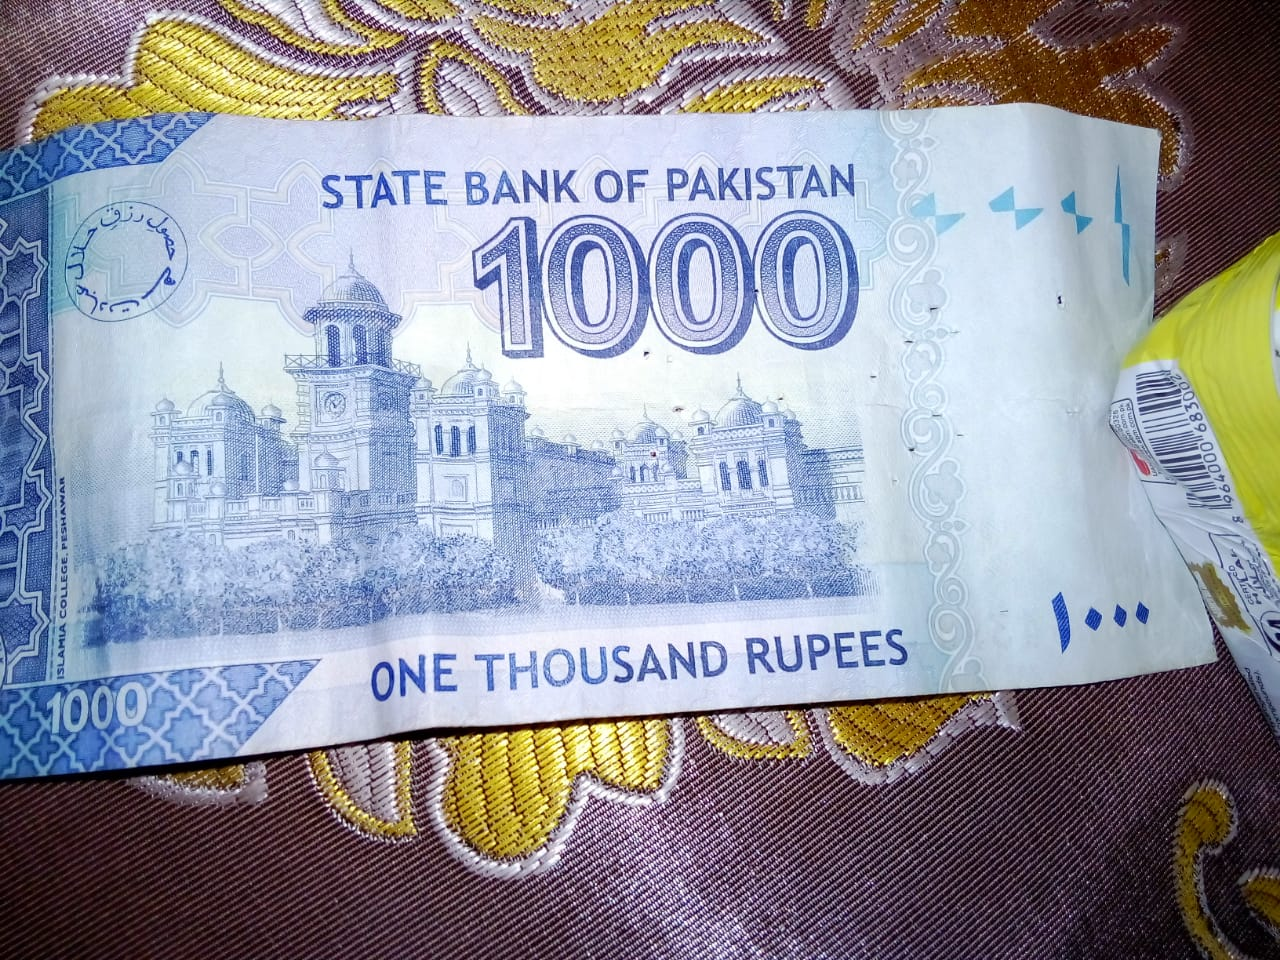1000 rupee: (15, 106, 1236, 737)
